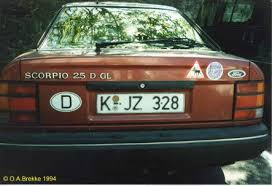2: (160, 96, 170, 110)
3: (151, 95, 161, 110)
8: (170, 95, 179, 109)
D: (59, 94, 73, 110)
J: (124, 96, 132, 111)
K: (99, 96, 112, 112)
Z: (132, 95, 143, 111)
